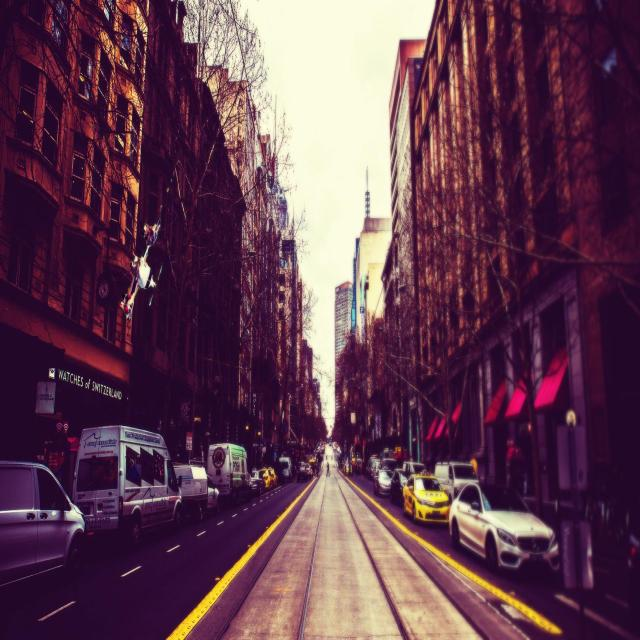airplane: (120, 219, 164, 321)
